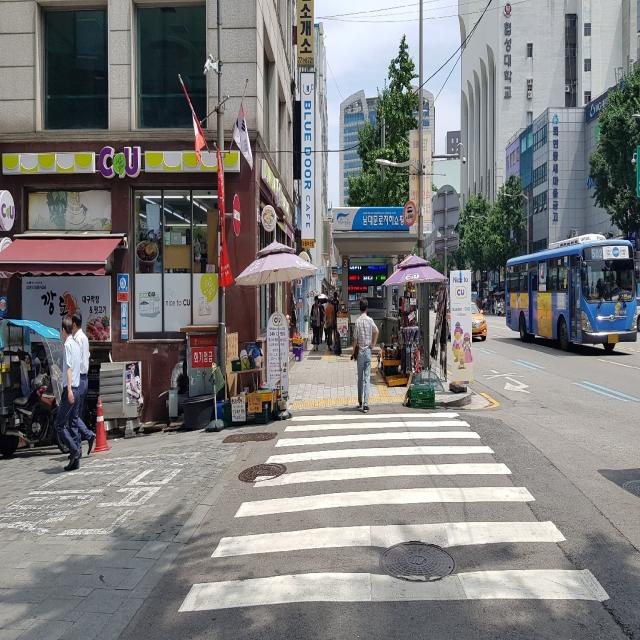횡단보도: (176, 407, 613, 616)
